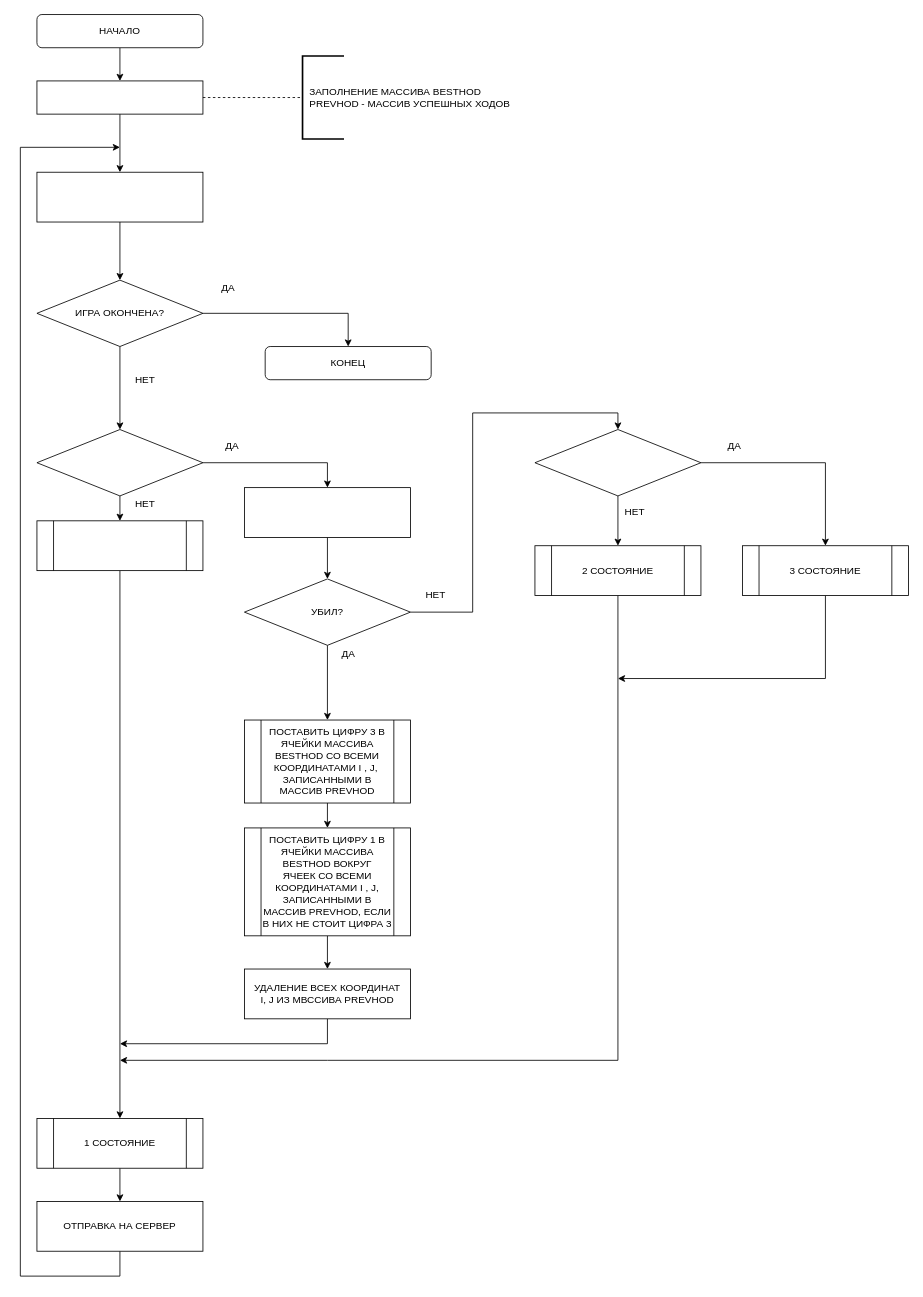
The diagram is 923 pixels wide and 1297 high, and some of its shapes have lost their labels. The shapes that lost their labels are listed below. From the top down, each one's centre as x and y in pixels, then its label:
At point 119,97: "Н. У.".
At point 119,196: "ОТВЕТ СЕРВЕРА".
At point 119,462: "ПОПАЛ?".
At point 617,462: "РАНЕНЫХ ПАЛУБ > 1?".
At point 327,512: "СОХРАНИЕ КООРДИНАТ I, J В МВССИВ PREVHOD".
At point 119,545: "ПОСТАВИТЬ ЦИФРУ 1 В ЯЧЕЙКУ МАССИВА BESTHOD С КООРДИНАТАМИ I , J".
